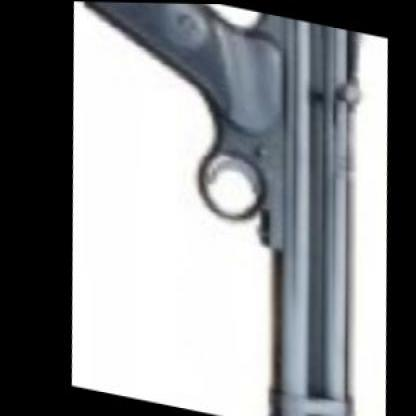pistol: (45, 0, 413, 415)
